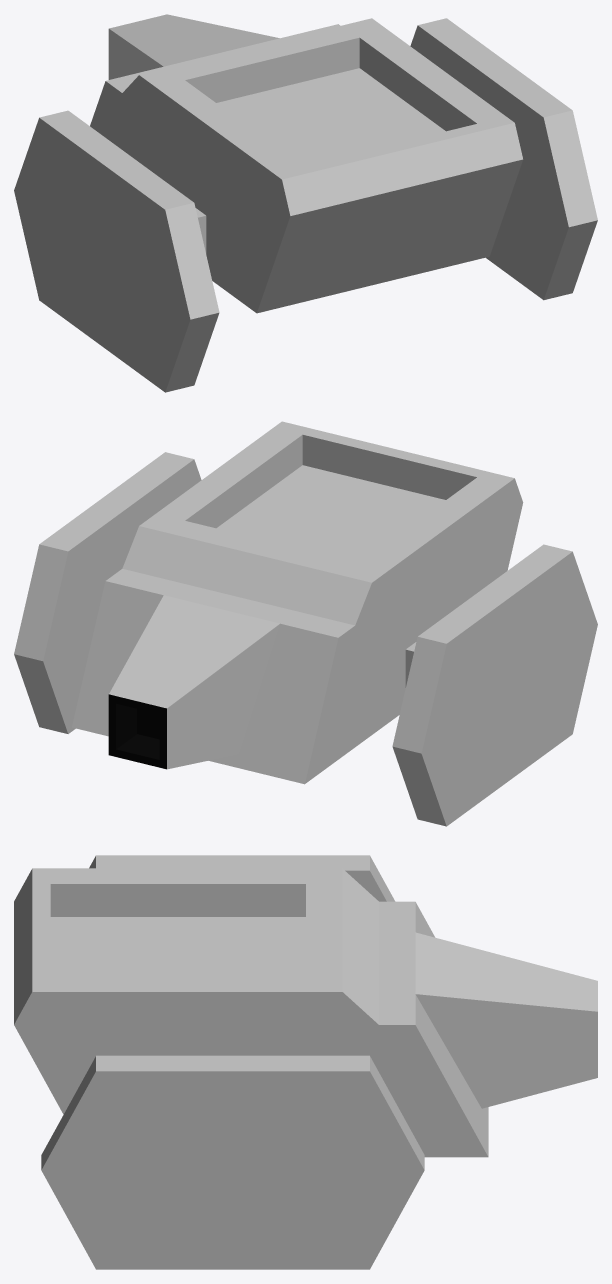
The model's file is m1legs.obj.
The picture shows the model from 3 angles, top to bottom: view 1: azimuth 30°, elevation 25°; view 2: azimuth 150°, elevation 25°; view 3: azimuth 270°, elevation 25°; orthographic projection. The views are drawn at different scales.
Parts seen in each view (by area): view 1: entity0_brush0, entity0_brush3, entity0_brush4, entity0_brush5, entity0_brush1, entity0_brush8, entity0_brush14, entity0_brush6, entity0_brush7, entity0_brush10, entity0_brush13, entity0_brush9 (+1 smaller); view 2: entity0_brush0, entity0_brush3, entity0_brush4, entity0_brush5, entity0_brush8, entity0_brush10, entity0_brush14, entity0_brush1, entity0_brush7, entity0_brush6, entity0_brush13, entity0_brush9 (+2 smaller); view 3: entity0_brush0, entity0_brush5, entity0_brush6, entity0_brush9, entity0_brush14, entity0_brush7, entity0_brush8, entity0_brush1, entity0_brush3, entity0_brush13, entity0_brush10, entity0_brush12.
Part boxes in pixels (bbox=[...]): entity0_brush0: bbox=[90, 24, 522, 313]; entity0_brush3: bbox=[14, 110, 219, 319]; entity0_brush4: bbox=[14, 191, 219, 392]; entity0_brush5: bbox=[410, 18, 597, 227]; entity0_brush1: bbox=[273, 116, 522, 215]; entity0_brush8: bbox=[169, 18, 388, 102]; entity0_brush14: bbox=[122, 68, 302, 203]; entity0_brush6: bbox=[486, 187, 597, 300]; entity0_brush7: bbox=[359, 30, 505, 131]; entity0_brush10: bbox=[108, 27, 199, 79]; entity0_brush13: bbox=[137, 24, 243, 57]; entity0_brush9: bbox=[160, 14, 279, 46]; entity0_brush0: bbox=[72, 465, 522, 784]; entity0_brush3: bbox=[392, 544, 597, 753]; entity0_brush4: bbox=[392, 625, 597, 826]; entity0_brush5: bbox=[14, 452, 201, 660]; entity0_brush8: bbox=[122, 513, 359, 618]; entity0_brush10: bbox=[159, 615, 279, 769]; entity0_brush14: bbox=[326, 477, 506, 625]; entity0_brush1: bbox=[274, 421, 522, 514]; entity0_brush7: bbox=[156, 427, 302, 528]; entity0_brush6: bbox=[14, 623, 95, 733]; entity0_brush13: bbox=[137, 604, 243, 739]; entity0_brush9: bbox=[108, 595, 199, 756]; entity0_brush0: bbox=[14, 901, 488, 1157]; entity0_brush5: bbox=[41, 1055, 424, 1170]; entity0_brush6: bbox=[41, 1170, 424, 1269]; entity0_brush9: bbox=[415, 975, 597, 1108]; entity0_brush14: bbox=[50, 868, 378, 916]; entity0_brush7: bbox=[50, 976, 305, 1024]; entity0_brush8: bbox=[306, 884, 378, 1024]; entity0_brush1: bbox=[14, 868, 50, 1024]; entity0_brush3: bbox=[89, 855, 395, 901]; entity0_brush13: bbox=[415, 952, 552, 999]; entity0_brush10: bbox=[415, 932, 597, 984]; entity0_brush12: bbox=[552, 976, 597, 1007].
Size of the model in its own units: 112 by 56 by 128.
